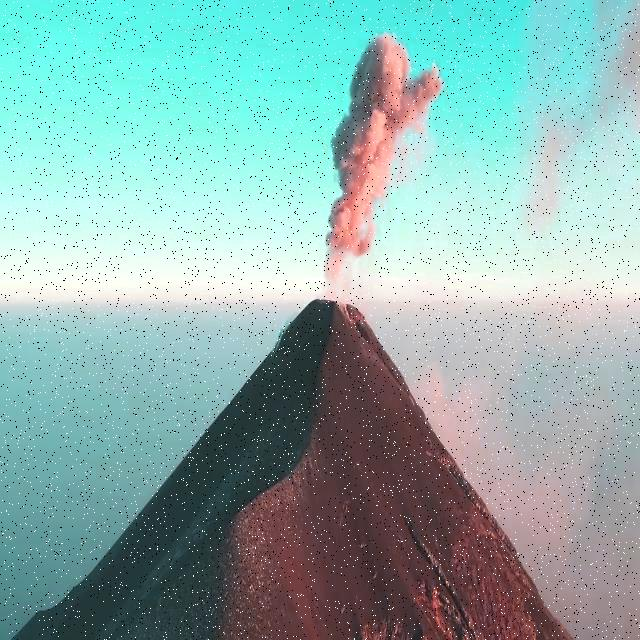Plume: (295, 24, 451, 292)
Summit: (0, 293, 640, 640)
